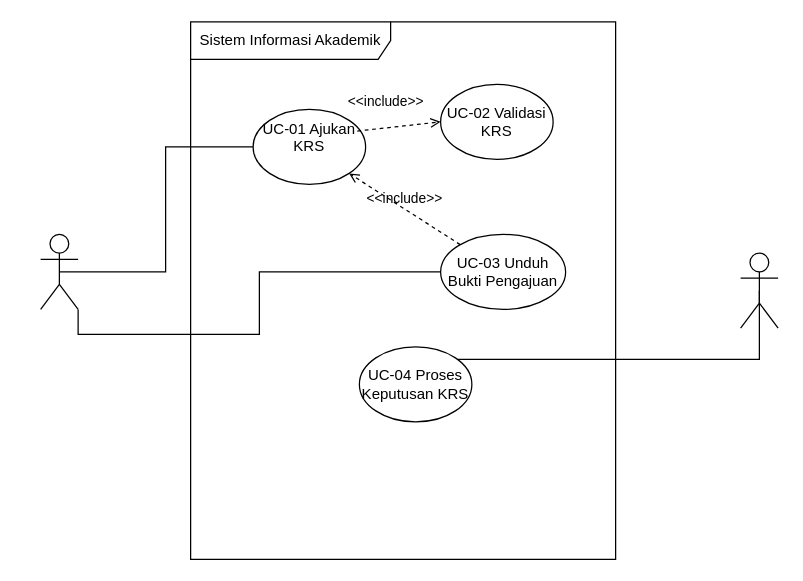
The diagram is 803 pixels wide and 581 high, and some of its shapes have lost their labels. The centre of each missing label's shape, as x and y in pixels:
"Dosen" goes at [758,290].
"Mahasiswa" goes at [58,271].
